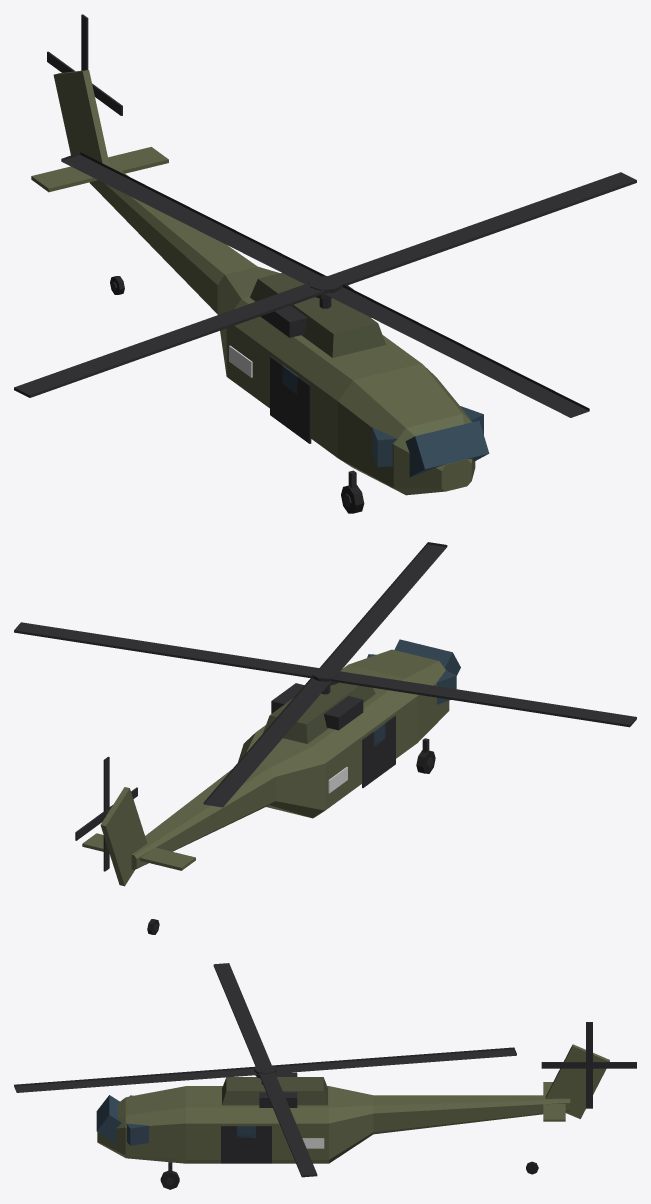
The model's file is heli_transport.glb.
The picture shows the model from 3 angles, top to bottom: view 1: azimuth 30°, elevation 25°; view 2: azimuth 150°, elevation 25°; view 3: azimuth 270°, elevation 25°; orthographic projection. The views are drawn at different scales.
Parts seen in each view (by area): view 1: Body, Rotor, TailRotor; view 2: Body, Rotor, TailRotor; view 3: Body, Rotor, TailRotor.
Boxes of the visible parts, x1,y1,x2,y2 form: Body: (31, 70, 489, 513); Rotor: (14, 152, 636, 417); TailRotor: (47, 14, 122, 115); Body: (82, 639, 460, 934); Rotor: (14, 542, 636, 807); TailRotor: (75, 756, 137, 871); Body: (96, 1044, 609, 1189); Rotor: (14, 963, 516, 1177); TailRotor: (541, 1022, 636, 1108).
Size of the model in its own units: 15.84 by 5.4 by 19.62.
